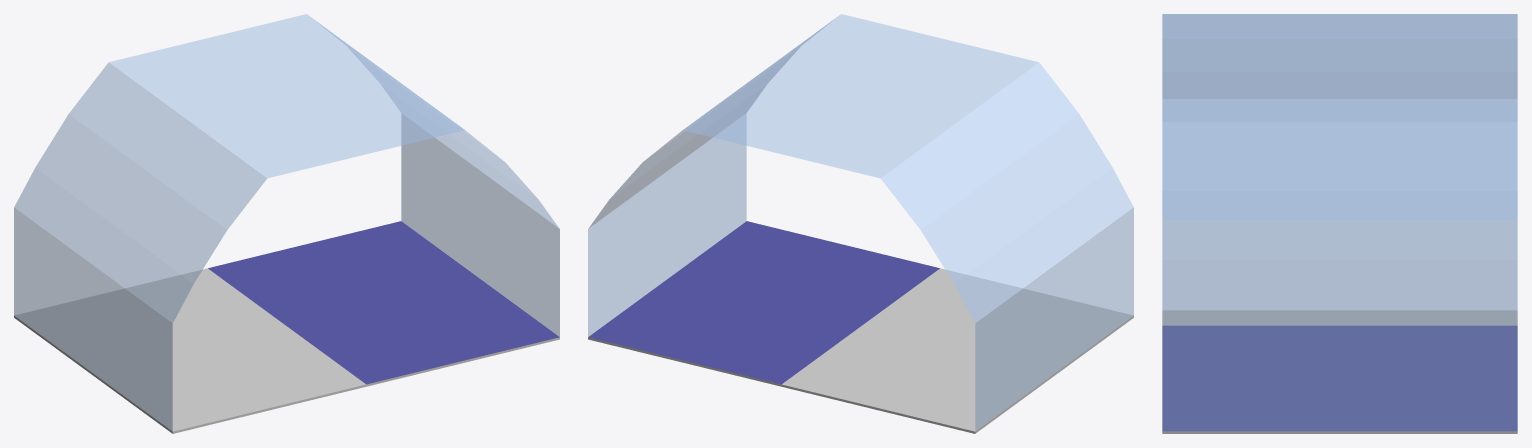
3 views of the same model, side by side, from view 1: azimuth 30°, elevation 25°; view 2: azimuth 150°, elevation 25°; view 3: azimuth 270°, elevation 25° (orthographic). The views are drawn at different scales.
Visible parts, largest first — view 1: Node12, Node4, Node7, Node16, Node11, Node13, Node14, Node15, Node10, Node9, Node5; view 2: Node12, Node4, Node7, Node16, Node11, Node13, Node14, Node15, Node10, Node9, Node3; view 3: Node11, Node16, Node12, Node4, Node7, Node8, Node9, Node10, Node14, Node15, Node13, Node2.
Boxes of the visible parts, x1=… form: Node12: x1=109, y1=14, x2=464, y2=178; Node4: x1=208, y1=221, x2=559, y2=384; Node7: x1=14, y1=268, x2=365, y2=431; Node16: x1=14, y1=207, x2=172, y2=430; Node11: x1=401, y1=114, x2=559, y2=336; Node13: x1=69, y1=62, x2=266, y2=229; Node14: x1=35, y1=114, x2=226, y2=283; Node15: x1=14, y1=168, x2=193, y2=323; Node10: x1=382, y1=85, x2=558, y2=227; Node9: x1=349, y1=48, x2=537, y2=198; Node5: x1=172, y1=337, x2=559, y2=433; Node12: x1=683, y1=14, x2=1038, y2=178; Node4: x1=588, y1=221, x2=939, y2=384; Node7: x1=782, y1=268, x2=1133, y2=431; Node16: x1=975, y1=207, x2=1133, y2=430; Node11: x1=588, y1=114, x2=746, y2=336; Node13: x1=881, y1=62, x2=1078, y2=229; Node14: x1=921, y1=114, x2=1112, y2=283; Node15: x1=954, y1=168, x2=1133, y2=323; Node10: x1=589, y1=85, x2=765, y2=227; Node9: x1=610, y1=48, x2=798, y2=198; Node3: x1=588, y1=337, x2=975, y2=433; Node11: x1=1162, y1=310, x2=1517, y2=431; Node16: x1=1162, y1=99, x2=1517, y2=219; Node12: x1=1162, y1=14, x2=1517, y2=121; Node4: x1=1162, y1=325, x2=1517, y2=431; Node7: x1=1162, y1=220, x2=1517, y2=325; Node8: x1=1162, y1=122, x2=1517, y2=190; Node9: x1=1162, y1=191, x2=1517, y2=259; Node10: x1=1162, y1=260, x2=1517, y2=310; Node14: x1=1162, y1=39, x2=1517, y2=71; Node15: x1=1162, y1=72, x2=1517, y2=98; Node13: x1=1162, y1=14, x2=1517, y2=38; Node2: x1=1162, y1=431, x2=1517, y2=433.
Size of the model in its own units: 176 by 101 by 125.
